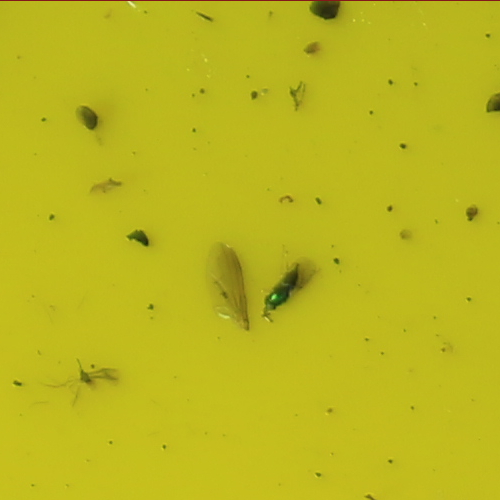Psyllaephagus: (264, 265, 305, 308)
